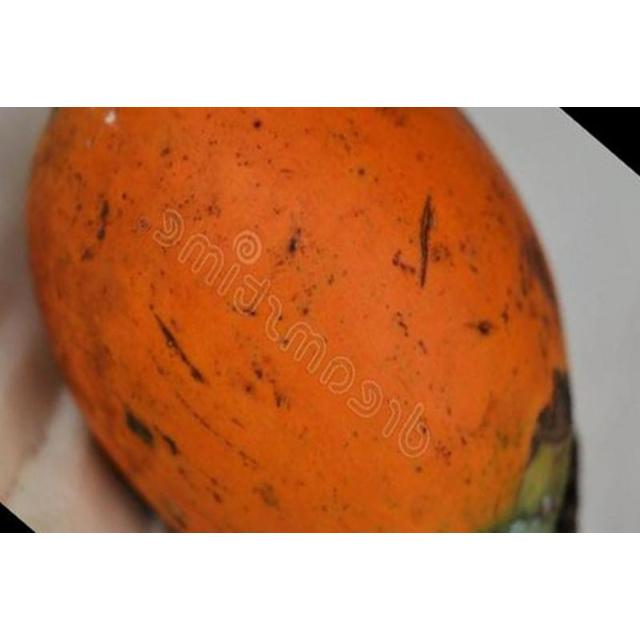good: (23, 107, 579, 533)
